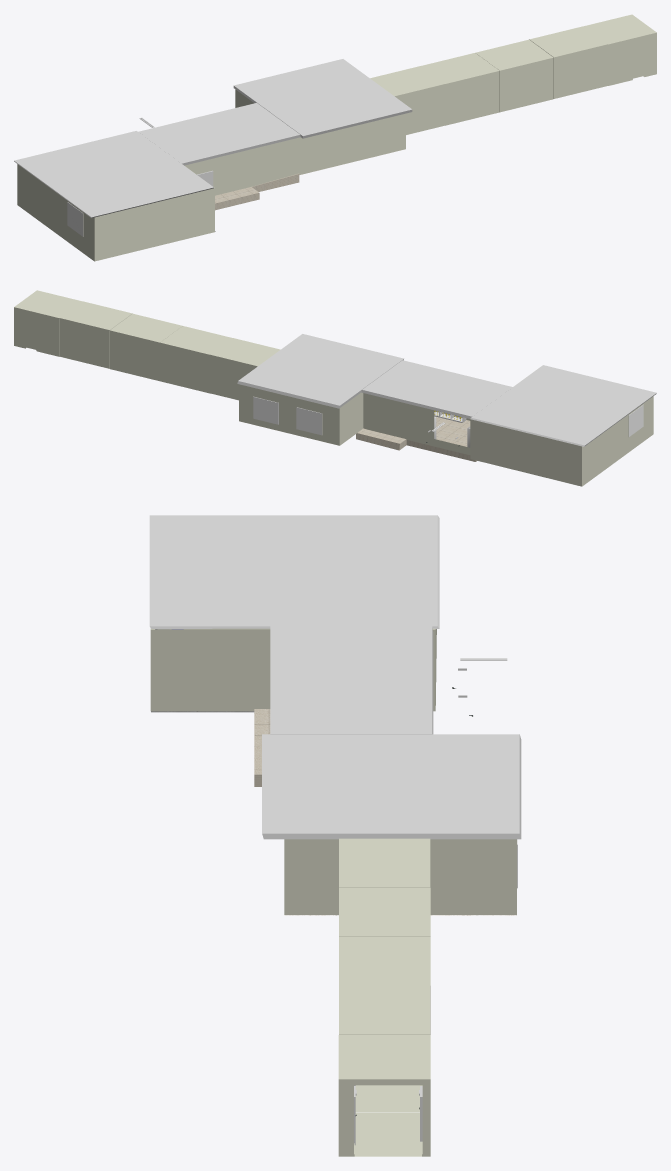
3 views of the same model, one above another, from view 1: azimuth 30°, elevation 25°; view 2: azimuth 150°, elevation 25°; view 3: azimuth 270°, elevation 25° (orthographic). The views are drawn at different scales.
Visible parts, largest first — view 1: Plane.007, Plane.003, Plane.010, Plane.009, Plane.006, Cube.169, Cube.174, Cube.179, Plane, Cube.160, Cube.184, Cube.213 (+2 smaller); view 2: Plane.007, Plane.003, Plane.010, Plane.009, Plane.006, Cube.169, Cube.179, Cube.174, Plane, Cube.160, Cube.184, Cube.213 (+4 smaller); view 3: Plane.007, Plane.010, Plane.009, Plane.006, Plane.003, Cube.160, Cube.169, Cube.184, Cube.174, Cube.179.
Boxes of the visible parts, x1,y1,x2,y2 form: Plane.007: (14, 131, 213, 218); Plane.003: (17, 164, 214, 261); Plane.010: (233, 59, 412, 138); Plane.009: (138, 103, 300, 165); Plane.006: (235, 89, 405, 174); Cube.169: (529, 26, 607, 98); Cube.174: (475, 39, 553, 112); Cube.179: (422, 53, 499, 125); Plane: (185, 138, 297, 195); Cube.160: (584, 14, 656, 85); Cube.184: (370, 66, 445, 134); Cube.213: (215, 187, 259, 210); Plane.007: (470, 365, 656, 446); Plane.003: (470, 396, 653, 486); Plane.010: (237, 334, 403, 408); Plane.009: (361, 360, 512, 418); Plane.006: (239, 384, 363, 445); Cube.169: (59, 301, 132, 368); Cube.179: (160, 326, 232, 393); Cube.174: (110, 313, 182, 381); Plane: (363, 393, 470, 454); Cube.160: (14, 290, 81, 356); Cube.184: (210, 338, 280, 400); Cube.213: (406, 417, 476, 461); Plane.007: (149, 515, 439, 628); Plane.010: (262, 734, 521, 839); Plane.009: (270, 626, 433, 734); Plane.006: (284, 839, 516, 914); Plane.003: (150, 628, 436, 711); Cube.160: (338, 1035, 430, 1156); Cube.169: (339, 985, 430, 1111); Cube.184: (339, 838, 430, 887); Cube.174: (339, 937, 430, 1034); Cube.179: (339, 888, 430, 936).
Bounding box in the file's own units: 5604 × 440 × 1576.
